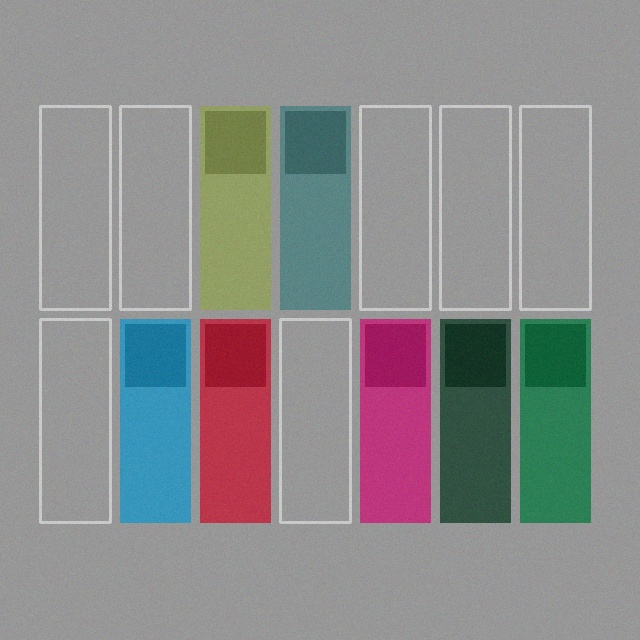space-empty: (40, 106, 110, 309), (120, 106, 190, 309), (360, 106, 430, 309), (440, 106, 510, 309), (520, 106, 590, 309), (40, 319, 110, 522), (280, 319, 350, 522)
space-occupied: (200, 106, 270, 309), (280, 106, 350, 309), (120, 319, 190, 522), (200, 319, 270, 522), (360, 319, 430, 522), (440, 319, 510, 522), (520, 319, 590, 522)
